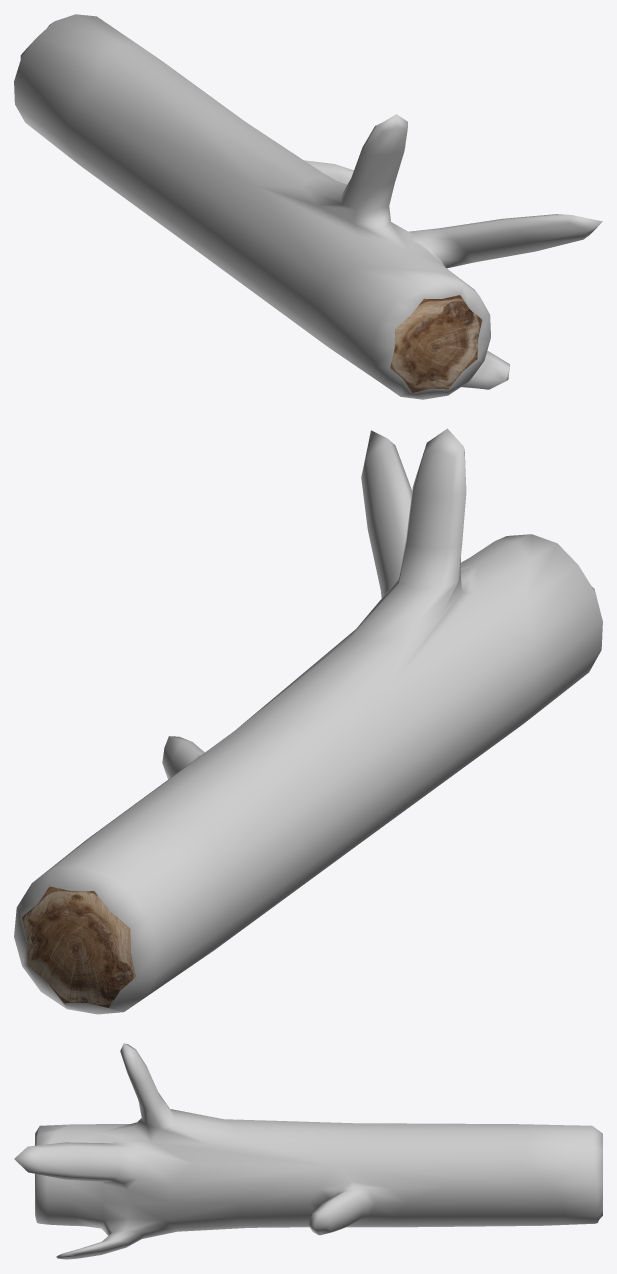
Rendered from tronco_1_redim.fbx.
3 views of the same model, one above another, from view 1: azimuth 30°, elevation 25°; view 2: azimuth 150°, elevation 25°; view 3: azimuth 270°, elevation 25° (orthographic). The views are drawn at different scales.
Visible parts, largest first — view 1: Cilindro; view 2: Cilindro; view 3: Cilindro.
Boxes of the visible parts, bbox=[...] form: Cilindro: bbox=[14, 14, 602, 399]; Cilindro: bbox=[14, 428, 602, 1014]; Cilindro: bbox=[14, 1043, 602, 1259].
Bounding box in the file's own units: 0.3291 × 0.3944 × 1.05.
